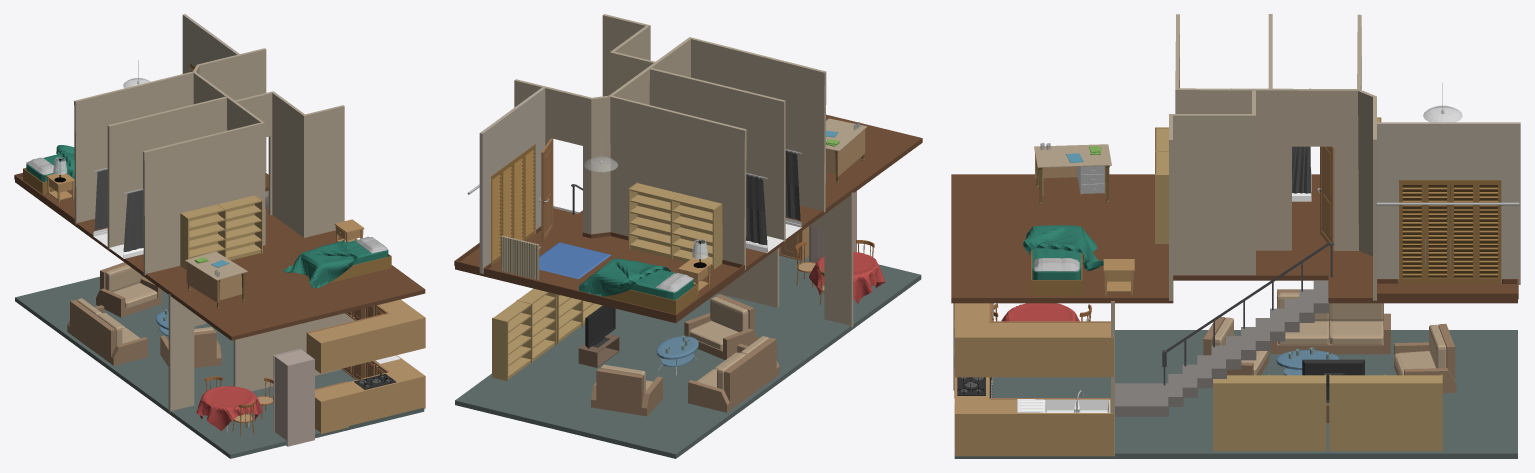
Rendered from low poly house.fbx.
3 views of the same model, side by side, from view 1: azimuth 30°, elevation 25°; view 2: azimuth 150°, elevation 25°; view 3: azimuth 270°, elevation 25° (orthographic). The views are drawn at different scales.
Parts seen in each view (by area): view 1: pCube54, pCube21, pCube194, pCube50, pCube16, pCube60, pCube132, pCube144, pCube114, pCube182, pCube56, pCube109 (+14 smaller); view 2: pCube194, pCube54, pCube21, pCube16, pCube56, pCube116, pCube60, polySurface1, pCube193, pCube109, pCube50, pCube109.001 (+20 smaller); view 3: pCube21, pCube194, pCube54, pCube50, polySurface1, pCube132, pCube193, pCube192, pCube144, pCube56, pPlane2.001, pCube33 (+23 smaller).
Boxes of the visible parts, box(x1,y1,x2,y2) form: pCube54: box(74, 71, 265, 275); pCube21: box(15, 172, 425, 340); pCube194: box(15, 274, 424, 458); pCube50: box(235, 91, 344, 237); pCube16: box(107, 96, 227, 249); pCube60: box(168, 294, 354, 412); pCube132: box(307, 299, 425, 373); pCube144: box(315, 355, 425, 433); pCube114: box(180, 195, 262, 269); pCube182: box(274, 349, 314, 446); pCube56: box(193, 48, 266, 172); pCube109: box(67, 300, 147, 365); pCube194: box(455, 255, 921, 458); pCube54: box(608, 37, 826, 270); pCube21: box(455, 114, 922, 323); pCube16: box(649, 68, 785, 241); pCube56: box(514, 79, 610, 234); pCube116: box(628, 182, 722, 269); pCube60: box(717, 192, 853, 327); polySurface1: box(479, 87, 545, 273); pCube193: box(492, 288, 556, 380); pCube109: box(688, 337, 779, 412); pCube50: box(602, 14, 655, 96); pCube109.001: box(591, 368, 662, 416); pCube21: box(951, 174, 1517, 303); pCube194: box(954, 330, 1517, 458); pCube54: box(1175, 14, 1361, 250); pCube50: box(1169, 90, 1255, 300); polySurface1: box(1376, 122, 1520, 284); pCube132: box(954, 303, 1113, 377); pCube193: box(1329, 374, 1442, 451); pCube192: box(1213, 374, 1326, 451); pCube144: box(954, 347, 1113, 456); pCube56: box(1358, 90, 1376, 300); pPlane2.001: box(1022, 225, 1103, 271); pCube33: box(1115, 383, 1168, 416).
Bounding box in the file's own units: 38.21 × 45.61 × 72.86.
